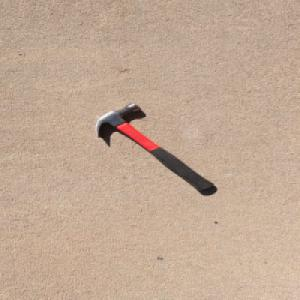Hammer: (92, 101, 216, 193)
